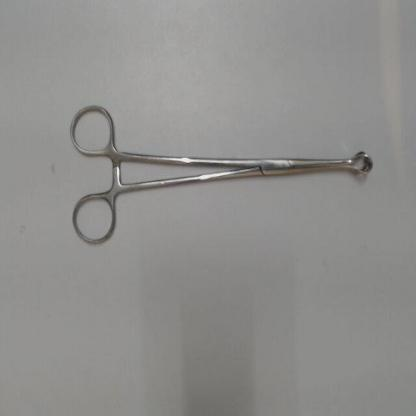8 Babcock Tissue Forceps: (64, 96, 380, 250)
